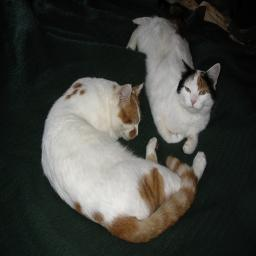catnose: (190, 99, 197, 105), (134, 131, 139, 139)
